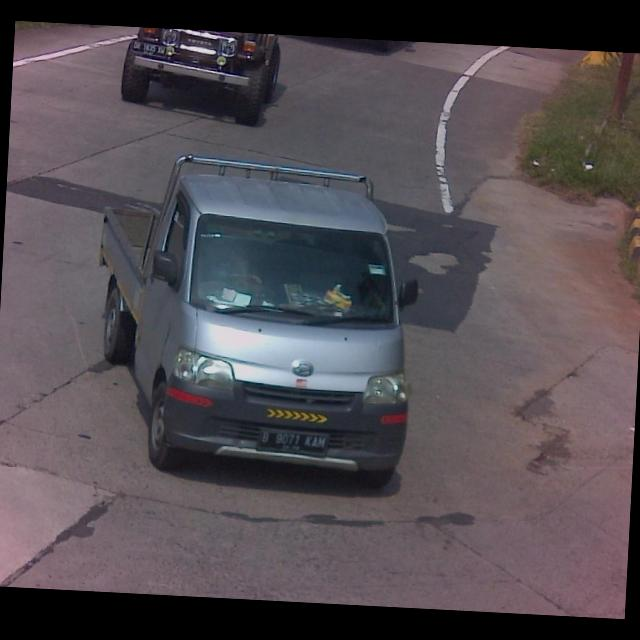plate: (260, 427, 329, 461)
